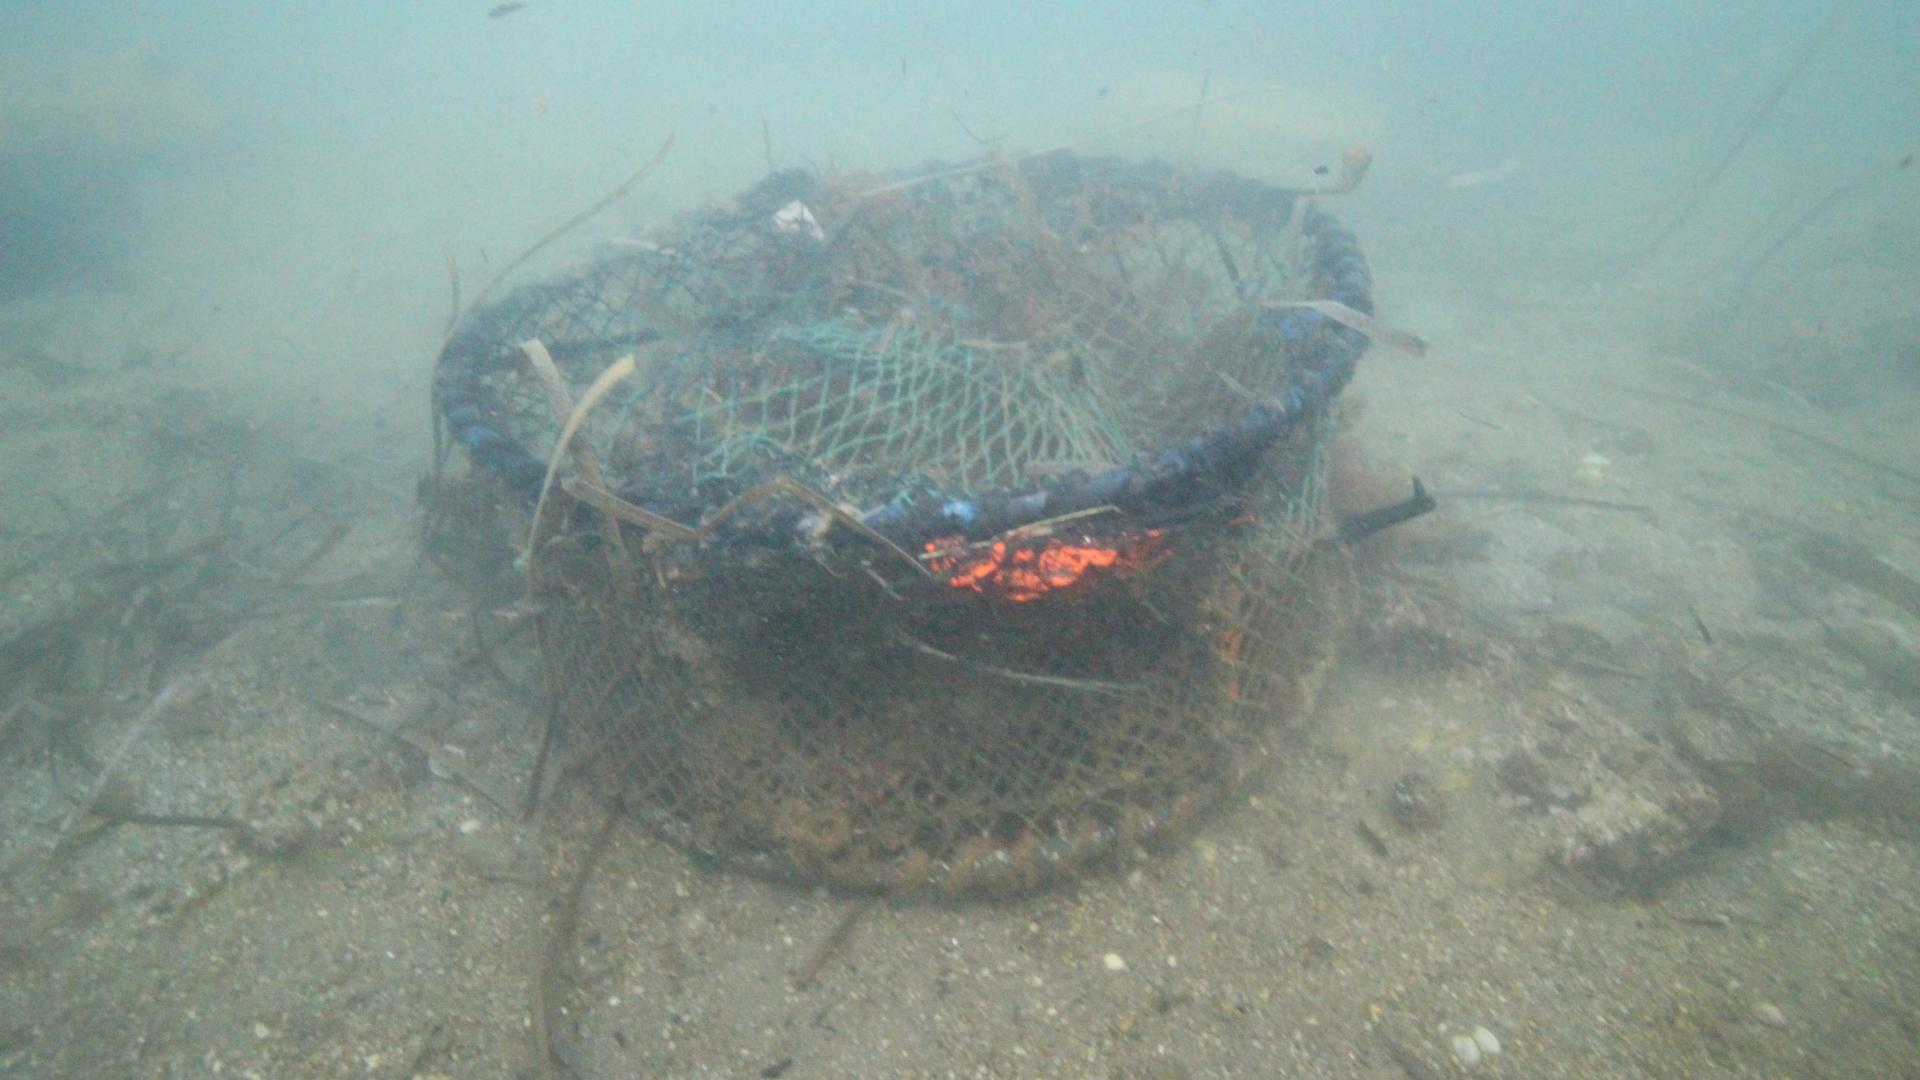circular fish trap: (426, 154, 1373, 910)
